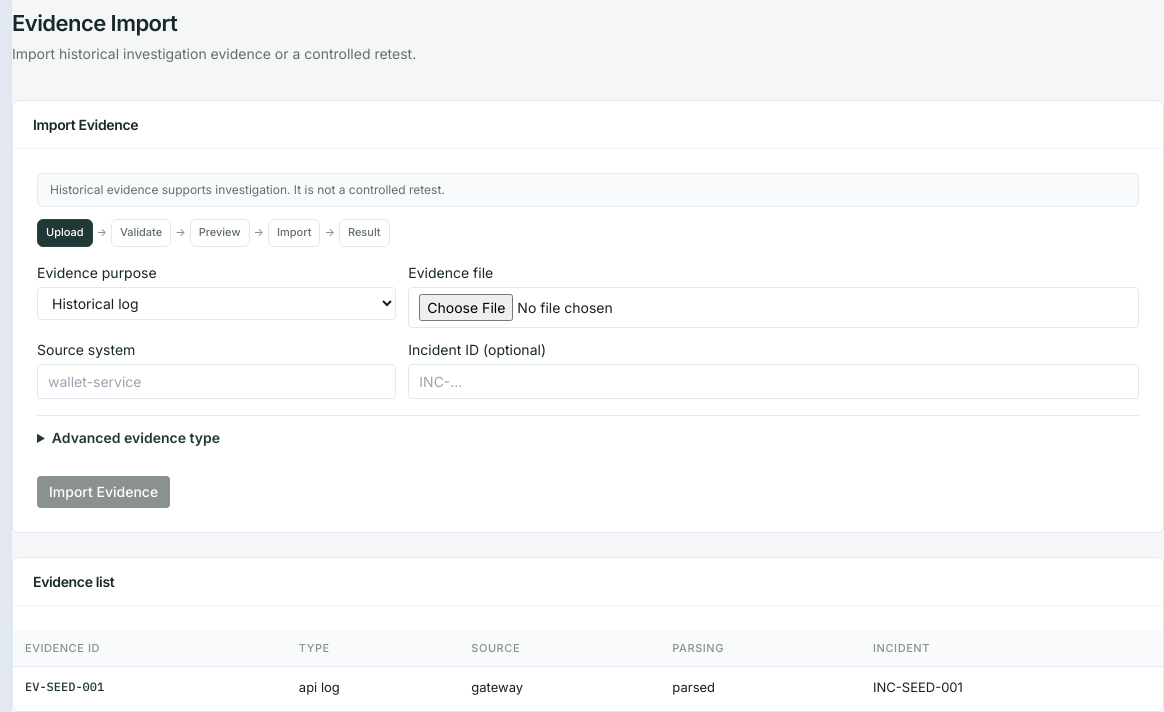
Test: EvidencePage › shows metadata only and not raw file contents
Click the text "EV-SEED-001" at coordinates (150, 687), box x1=13 y1=667 x2=287 y2=707
(page scrolled)
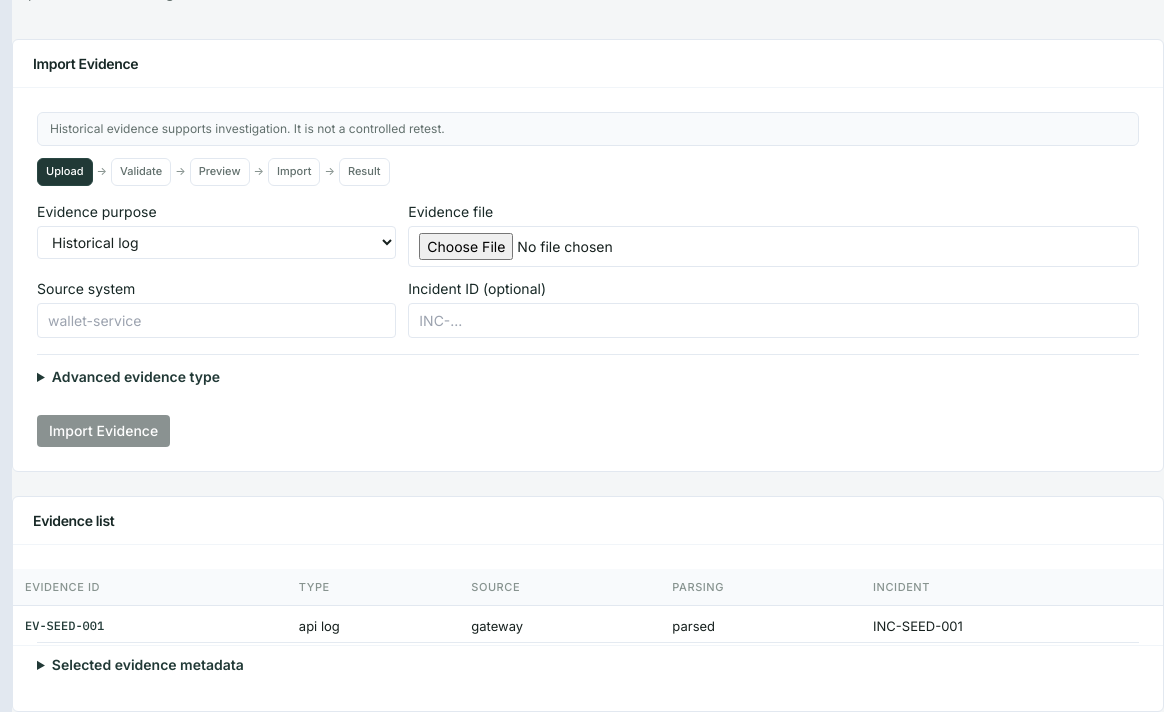
Expected: the heading "Selected evidence metadata" is shown, x1=52 y1=656 x2=244 y2=673
